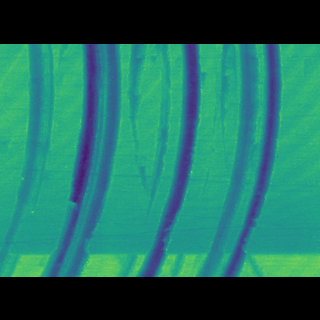Loch: (192, 75, 284, 246), (35, 75, 124, 245), (133, 75, 205, 246), (0, 74, 57, 244), (124, 74, 173, 197)
